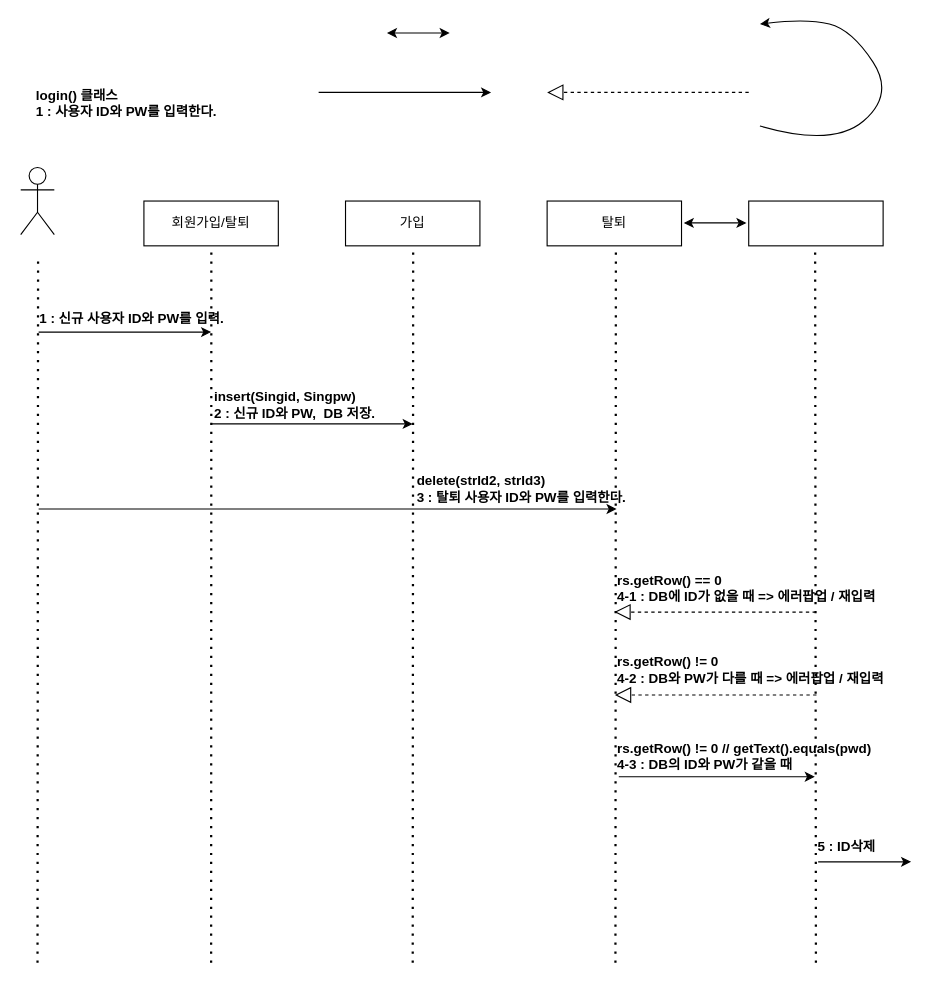
This 940x984 diagram has some shape labels left out. Each missing label, with the centre of its shape:
DB검수: pixel 815 223
사용자: pixel 37 200
